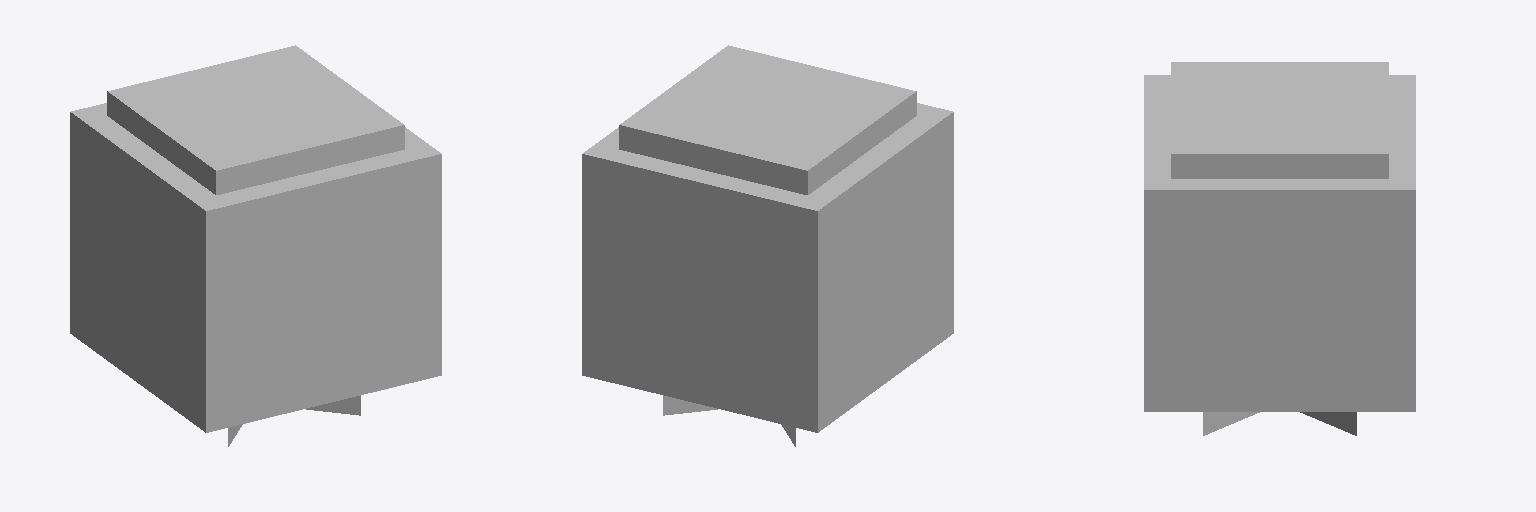
Rendered from small_darkshroom.obj.
3 renders of one model, left to right at view 1: azimuth 30°, elevation 25°; view 2: azimuth 150°, elevation 25°; view 3: azimuth 270°, elevation 25°, orthographic.
Visible parts, largest first — view 1: SmallDarkshroom_Cube; view 2: SmallDarkshroom_Cube; view 3: SmallDarkshroom_Cube.
Boxes of the visible parts, <box> form: SmallDarkshroom_Cube: <box>70,45,441,446</box>; SmallDarkshroom_Cube: <box>582,45,953,446</box>; SmallDarkshroom_Cube: <box>1144,62,1415,435</box>.
Size of the model in its own units: 0.625 by 0.75 by 0.625.